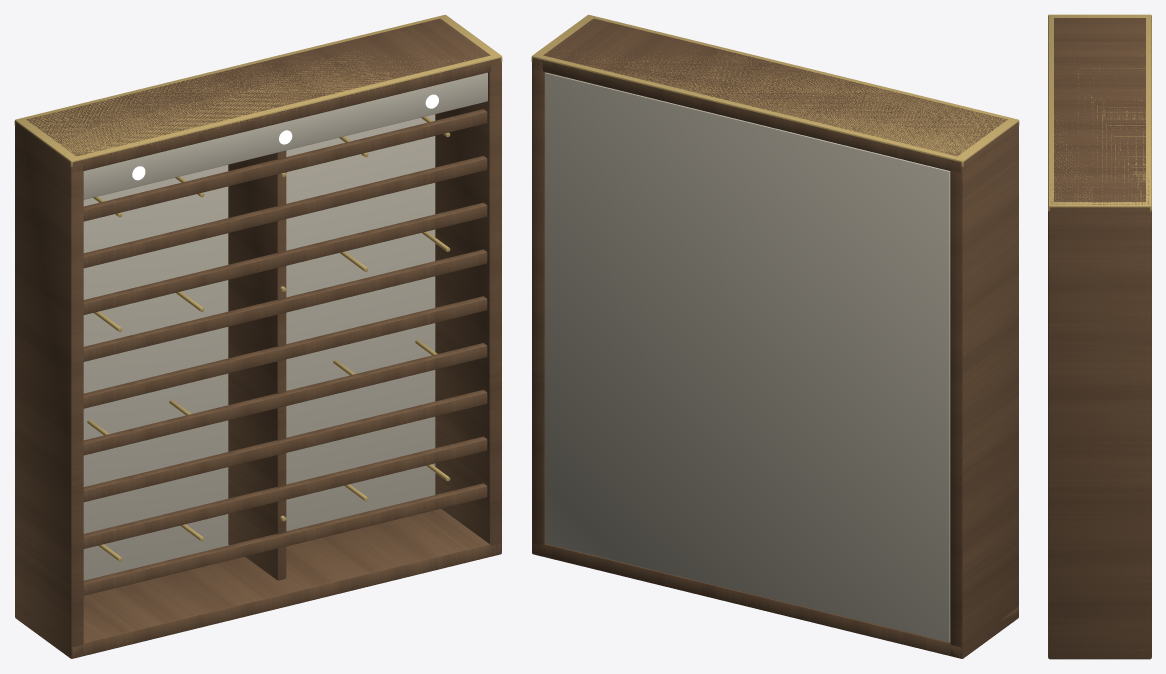
File: pf_display_hat_wall_t4.glb
3 views of the same model, side by side, from view 1: azimuth 30°, elevation 25°; view 2: azimuth 150°, elevation 25°; view 3: azimuth 270°, elevation 25° (orthographic). The views are drawn at different scales.
Visible parts, largest first — view 1: Case_Back, Case_Left, Case_Base, Case_Right, Crown_Main, Millwork_Divider_01, Crown_Trim, Header_Back, Slat_06, Slat_05, Slat_07, Slat_03 (+6 smaller); view 2: Case_Back, Case_Left, Crown_Main, Crown_Trim, Case_Right, Case_Base, Case_Top; view 3: Case_Right, Crown_Main, Crown_Trim.
Boxes of the visible parts, box(x1,y1,x2,y2) form: Case_Back: box(83, 114, 435, 580); Case_Left: box(15, 122, 83, 658); Case_Base: box(72, 509, 501, 658); Case_Right: box(435, 58, 501, 554); Crown_Main: box(26, 18, 490, 155); Millwork_Divider_01: box(228, 150, 286, 580); Crown_Trim: box(14, 15, 502, 167); Header_Back: box(83, 72, 487, 199); Slat_06: box(83, 249, 487, 361); Slat_05: box(83, 296, 487, 408); Slat_07: box(83, 202, 487, 314); Slat_03: box(83, 389, 487, 501); Case_Back: box(545, 72, 950, 642); Case_Left: box(950, 122, 1018, 658); Crown_Main: box(543, 18, 1007, 156); Crown_Trim: box(531, 15, 1019, 167); Case_Right: box(532, 58, 545, 554); Case_Base: box(532, 542, 1018, 658); Case_Top: box(533, 58, 1009, 172); Case_Right: box(1048, 201, 1151, 659); Crown_Main: box(1054, 18, 1145, 201); Crown_Trim: box(1048, 14, 1151, 211).
Bounding box in the file's own units: 2.1 × 2.32 × 0.48.
5 materials, 1 textured.
